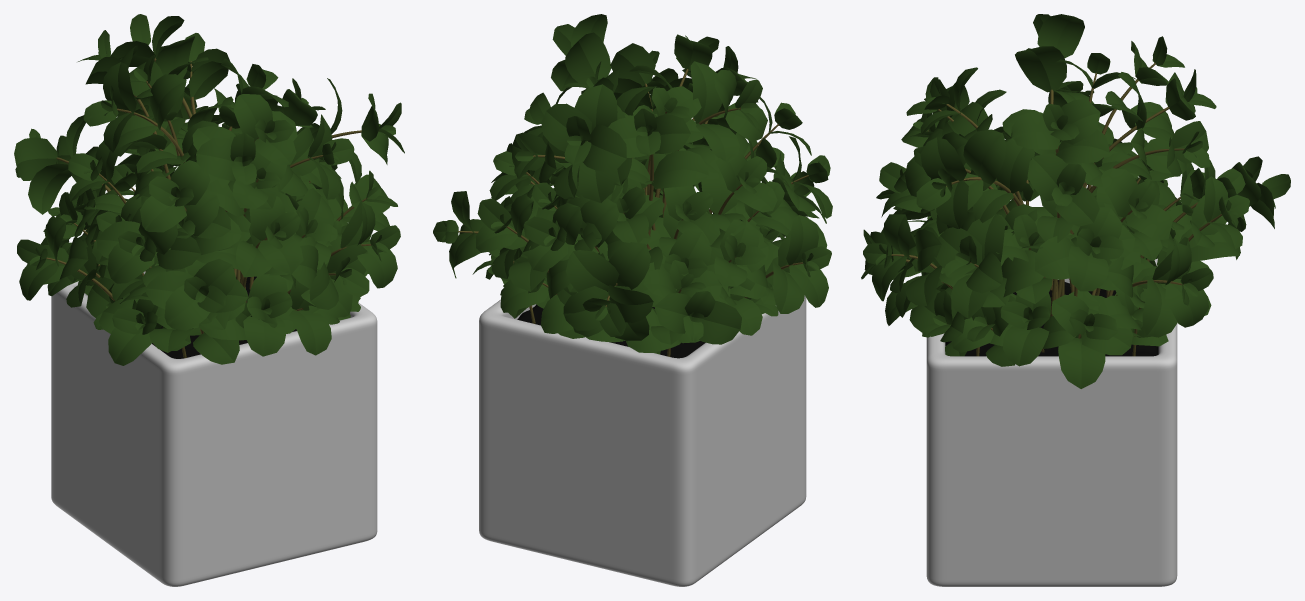
Rendered from Bush1.FBX.
3 renders of one model, left to right at view 1: azimuth 30°, elevation 25°; view 2: azimuth 150°, elevation 25°; view 3: azimuth 270°, elevation 25°, orthographic.
Visible parts, largest first — view 1: 25 Mint 2, Group02; view 2: 25 Mint 2, Group02; view 3: 25 Mint 2, Group02.
Part boxes in pixels (x1,y1,x2,y2): 25 Mint 2: [14, 14, 404, 365]; Group02: [51, 271, 377, 586]; 25 Mint 2: [433, 14, 832, 358]; Group02: [479, 295, 806, 586]; 25 Mint 2: [861, 14, 1290, 388]; Group02: [926, 258, 1177, 586].
Bounding box in the file's own units: 7.24 × 10 × 8.1.
